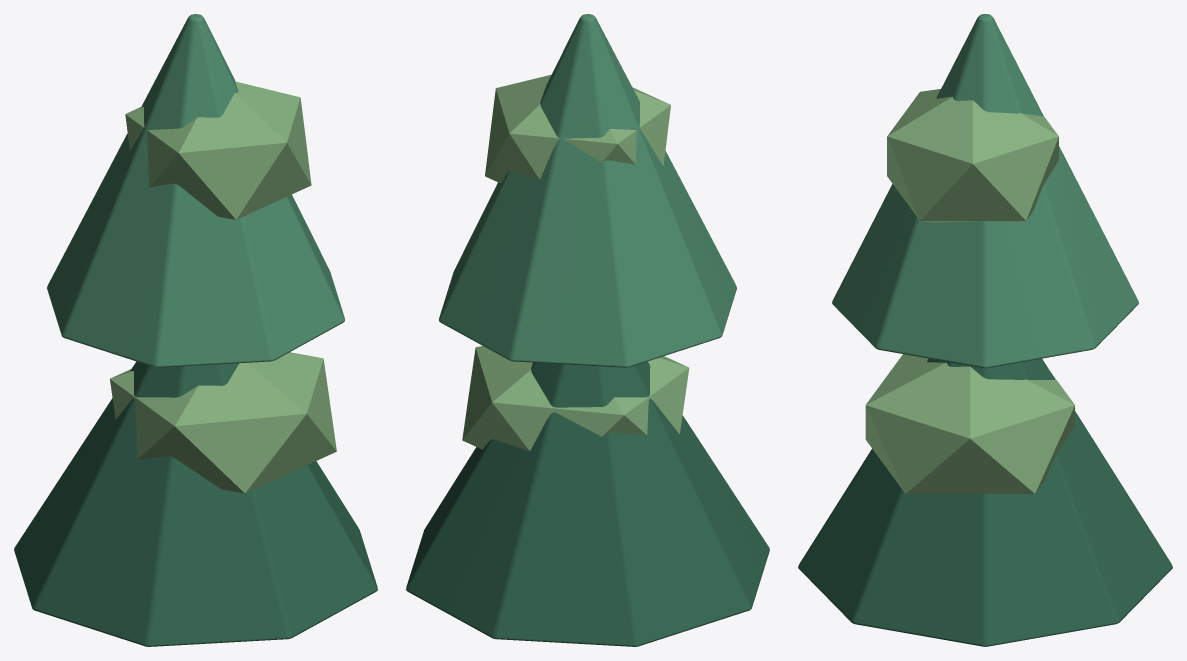
File: SM_Tree_Pine_Small.fbx
3 views of the same model, side by side, from view 1: azimuth 30°, elevation 25°; view 2: azimuth 150°, elevation 25°; view 3: azimuth 270°, elevation 25° (orthographic).
Visible parts, largest first — view 1: SM_Tree_Pine_Small; view 2: SM_Tree_Pine_Small; view 3: SM_Tree_Pine_Small.
Boxes of the visible parts, x1,y1,x2,y2 form: SM_Tree_Pine_Small: (14, 14, 377, 646); SM_Tree_Pine_Small: (406, 14, 769, 646); SM_Tree_Pine_Small: (798, 14, 1172, 646).
Size of the model in its own units: 1.24 by 2.21 by 1.24.
